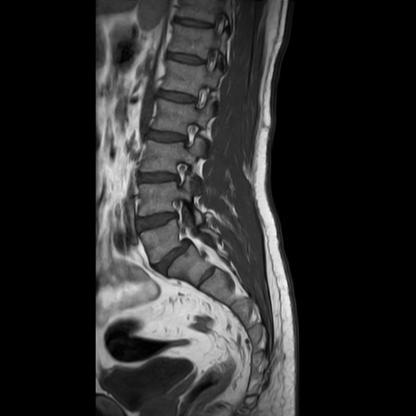Disc Bulgerotation: (134, 207, 179, 233), (150, 247, 198, 269), (135, 168, 181, 189)
